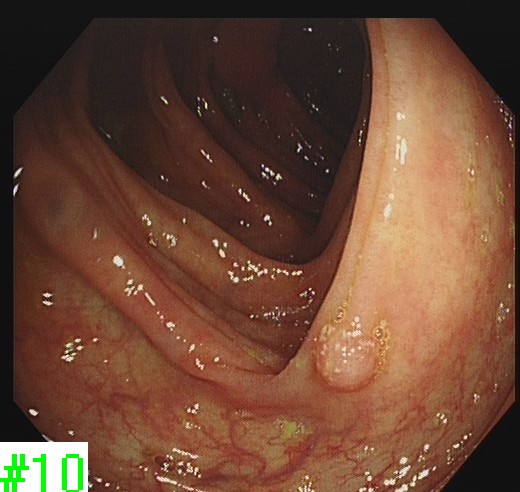adenoma: (310, 323, 381, 393)
